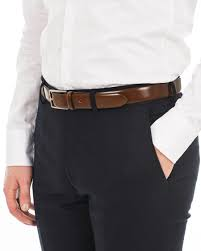F_belt: (33, 77, 191, 113)
F_dress pants: (31, 103, 201, 247)
